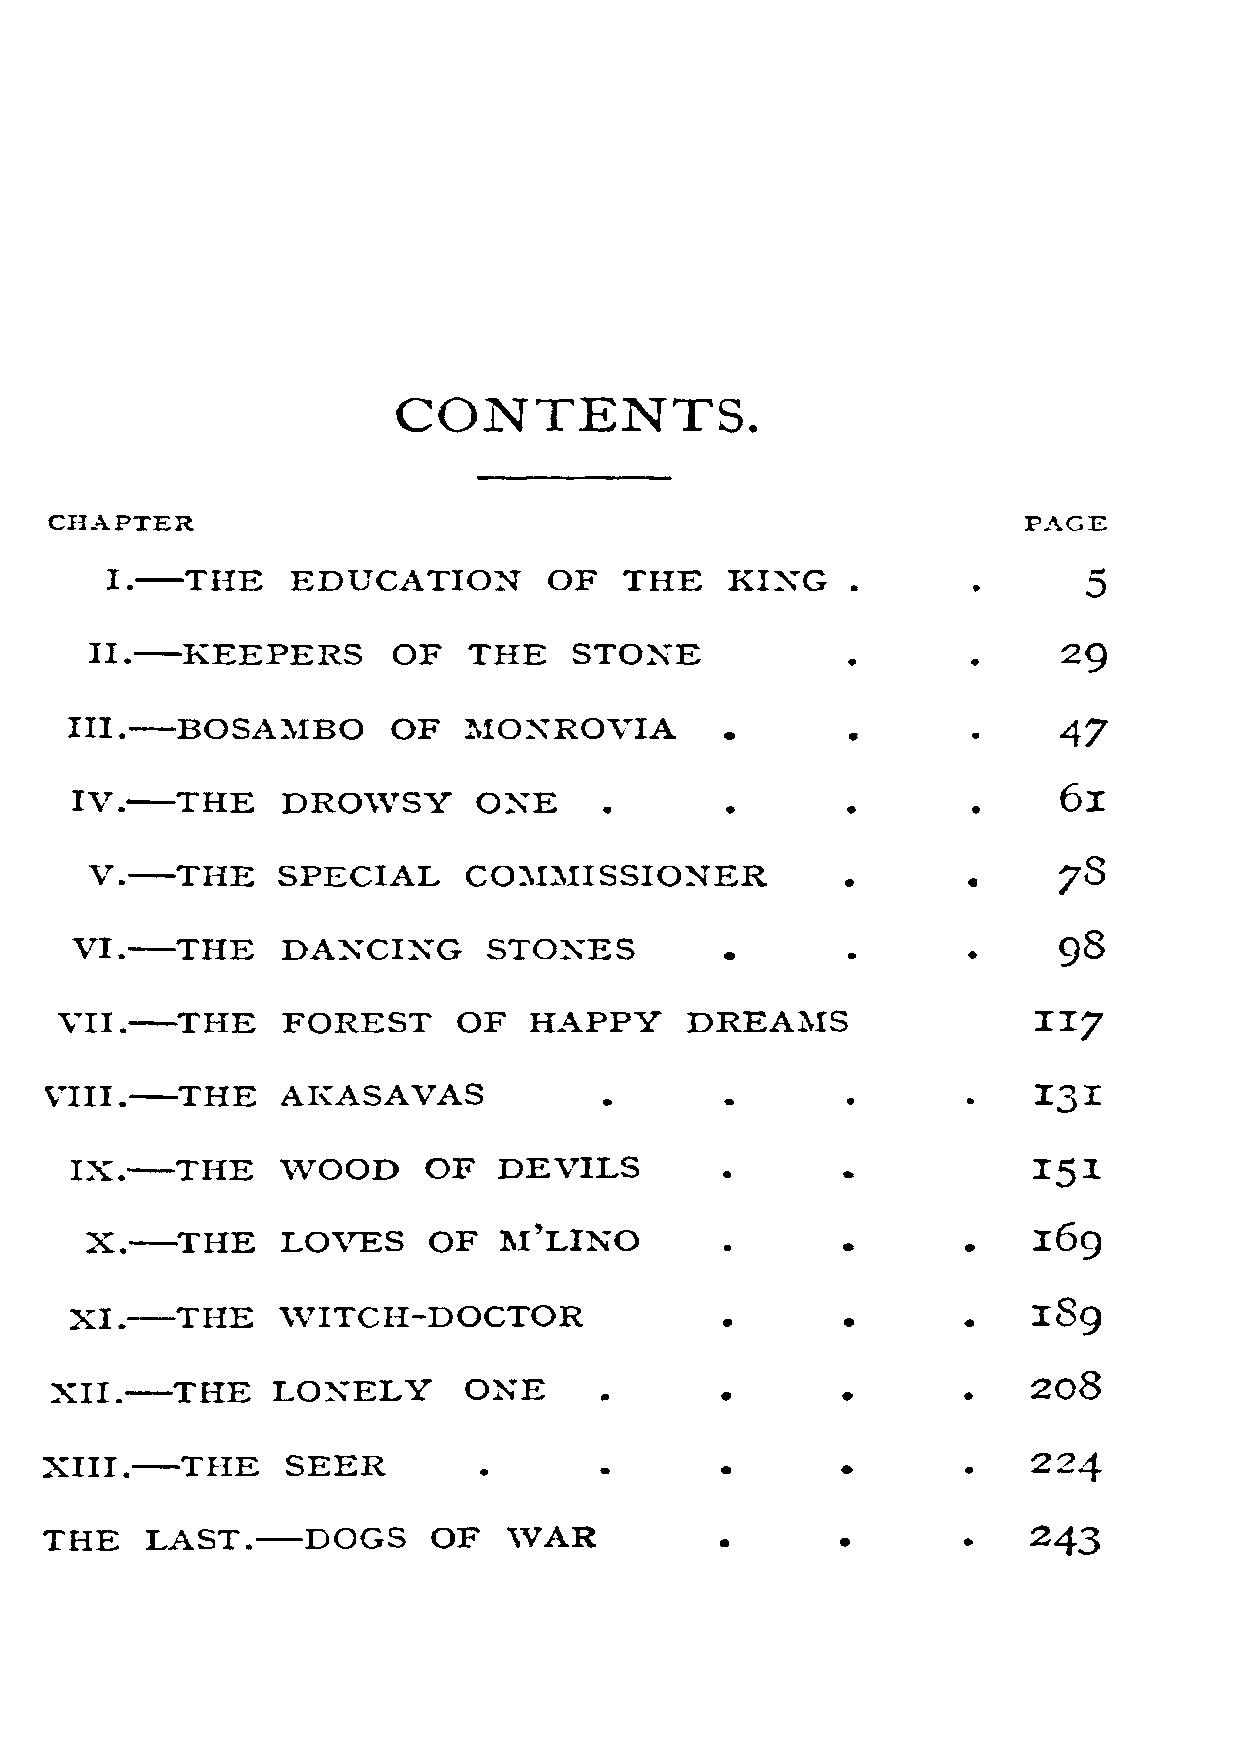TOC_chapter: (101, 561, 831, 599), (86, 854, 772, 892), (83, 629, 709, 671), (62, 706, 682, 747), (56, 1005, 852, 1036), (62, 777, 572, 824), (81, 1223, 645, 1263), (62, 929, 640, 965), (42, 1520, 603, 1555), (62, 1151, 640, 1185), (68, 1300, 585, 1333), (47, 1374, 552, 1405), (42, 1075, 493, 1108), (42, 1445, 388, 1482)
TOC_pagenumber: (1025, 1143, 1103, 1196), (1025, 1295, 1108, 1339), (1025, 1439, 1106, 1483), (1025, 1512, 1100, 1559), (1023, 1363, 1108, 1404), (1033, 1074, 1100, 1121), (1056, 845, 1108, 902), (1031, 1217, 1103, 1257), (1049, 926, 1111, 973), (1056, 629, 1113, 679), (1031, 1005, 1103, 1041), (1056, 713, 1113, 752), (1056, 777, 1108, 819), (1080, 560, 1108, 603)
chapter: (392, 386, 756, 442)
